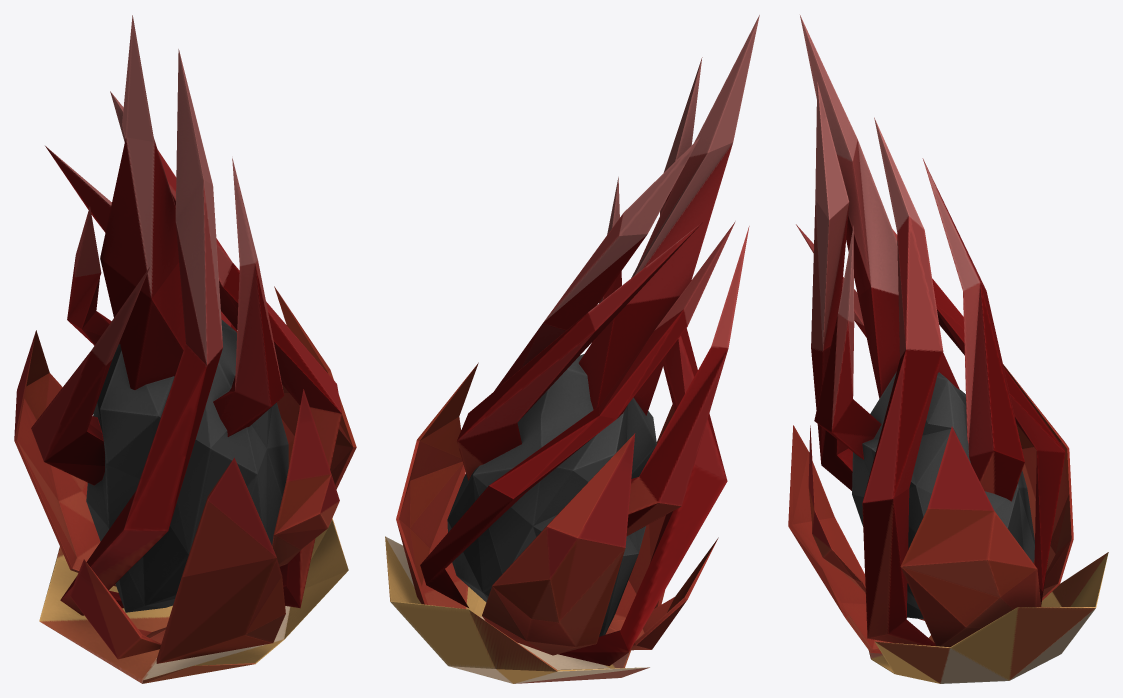
Rendered from artifact_fireball.glb.
3 views of the same model, side by side, from view 1: azimuth 30°, elevation 25°; view 2: azimuth 150°, elevation 25°; view 3: azimuth 270°, elevation 25° (orthographic). The views are drawn at different scales.
Parts seen in each view (by area): view 1: normalized; view 2: normalized; view 3: normalized.
Part boxes in pixels (box(x1,y1,x2,y2)): normalized: box(14, 15, 356, 683); normalized: box(385, 15, 759, 683); normalized: box(788, 15, 1108, 683).
Bounding box in the file's own units: 0.2222 × 0.5 × 0.2425.
Materials: 1 (1 with a texture image).
